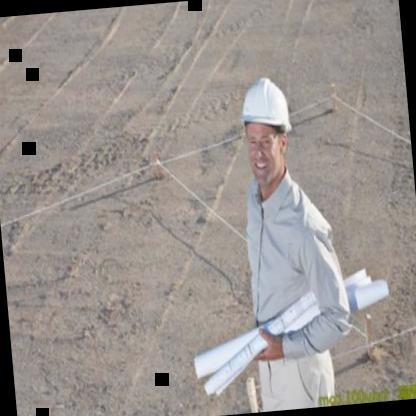helmet: (232, 63, 304, 192)
